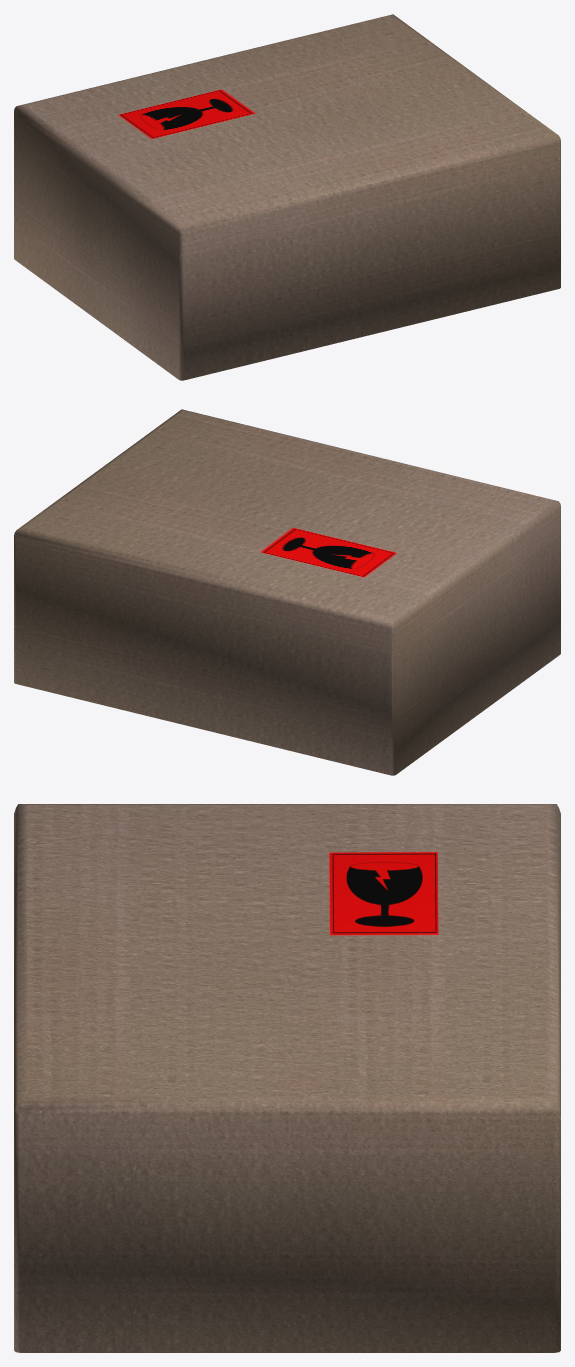
The model's file is PostPackage.fbx.
The picture shows the model from 3 angles, top to bottom: view 1: azimuth 30°, elevation 25°; view 2: azimuth 150°, elevation 25°; view 3: azimuth 270°, elevation 25°; orthographic projection. The views are drawn at different scales.
Visible parts, largest first — view 1: Kartong; view 2: Kartong; view 3: Kartong.
Boxes of the visible parts, x1,y1,x2,y2 form: Kartong: (14,14,560,380); Kartong: (14,409,560,775); Kartong: (14,804,560,1352).
Size of the model in its own units: 21.31 by 8.25 by 16.27.
